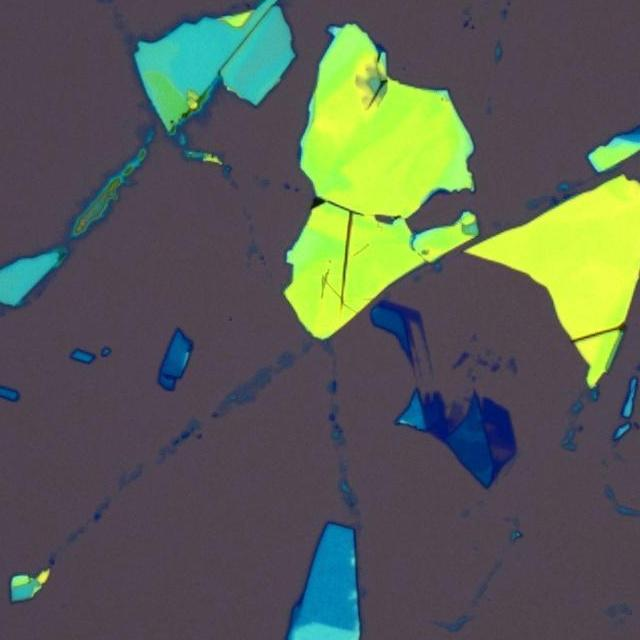monolayer-eWW4: (448, 400, 464, 427), (490, 444, 509, 463)
